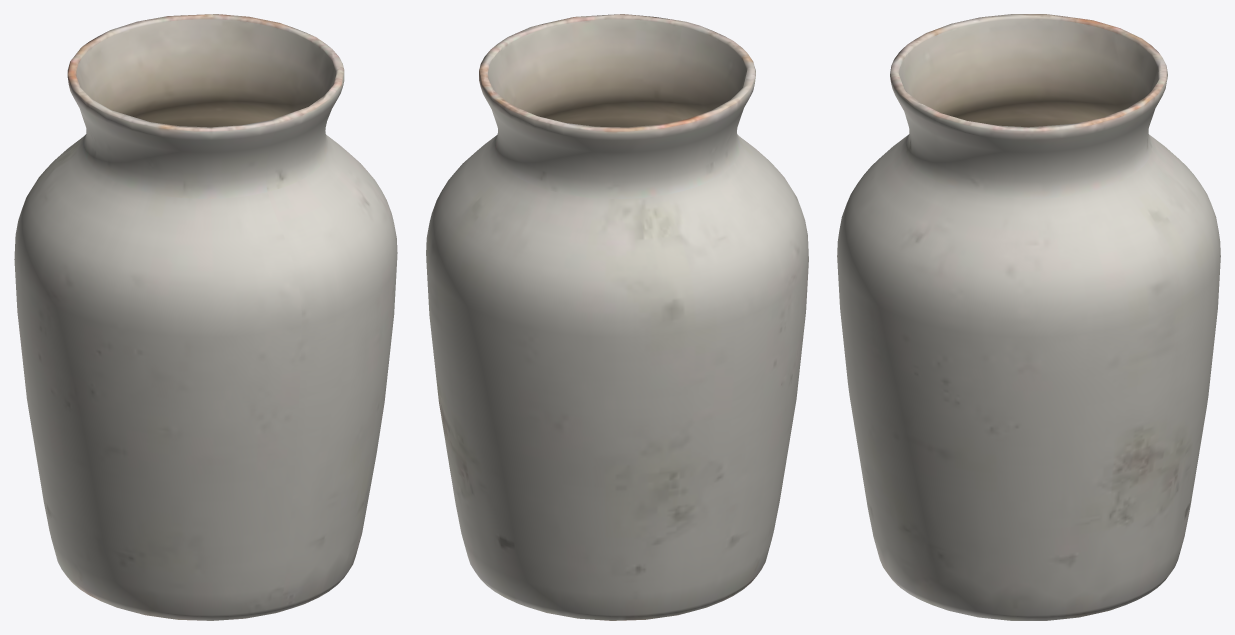
Rendered from vase-wide.glb.
3 views of the same model, side by side, from view 1: azimuth 30°, elevation 25°; view 2: azimuth 150°, elevation 25°; view 3: azimuth 270°, elevation 25° (orthographic).
Parts seen in each view (by area): view 1: ceramic_vase_02; view 2: ceramic_vase_02; view 3: ceramic_vase_02.
Boxes of the visible parts, x1,y1,x2,y2 form: ceramic_vase_02: (14, 14, 397, 620); ceramic_vase_02: (426, 14, 808, 620); ceramic_vase_02: (837, 14, 1220, 620).
Bounding box in the file's own units: 0.2184 × 0.3091 × 0.2184.
1 material, 1 textured.
